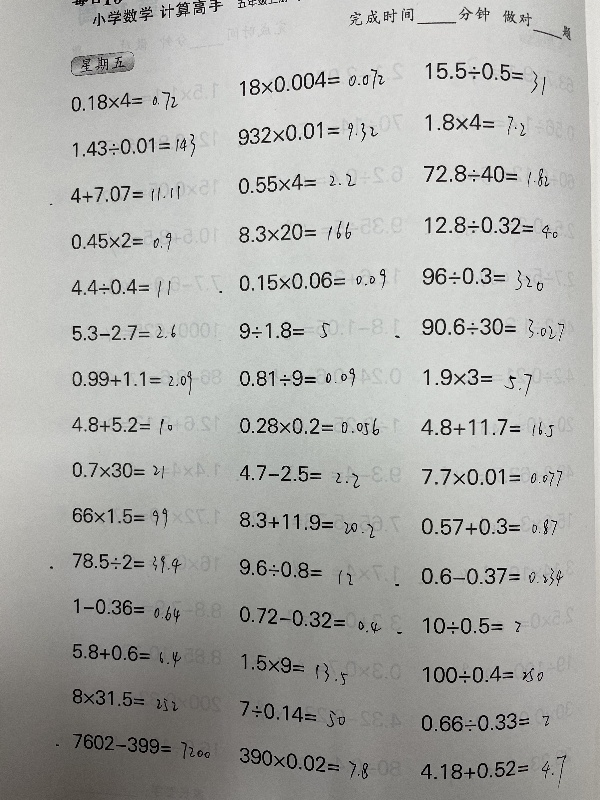equation: (232, 498, 379, 544), (237, 597, 386, 639), (414, 555, 566, 595), (236, 741, 370, 786), (418, 750, 566, 790), (70, 729, 213, 767), (420, 56, 548, 98), (416, 704, 552, 743), (234, 551, 361, 589), (241, 648, 355, 690), (236, 693, 350, 735), (419, 659, 545, 693), (233, 117, 380, 146), (235, 67, 387, 95), (417, 312, 567, 340), (234, 265, 388, 292), (68, 366, 195, 398), (67, 128, 198, 159), (419, 210, 561, 238), (419, 159, 552, 188), (417, 262, 547, 291), (232, 412, 382, 437), (233, 313, 340, 348), (417, 463, 565, 488), (416, 413, 556, 439), (417, 513, 561, 538), (68, 548, 188, 578), (67, 596, 187, 626), (64, 640, 184, 670), (65, 687, 185, 717), (418, 364, 534, 395), (231, 460, 363, 487), (419, 608, 529, 639), (234, 217, 354, 244), (235, 364, 358, 390), (67, 503, 172, 533), (233, 168, 358, 193), (420, 108, 529, 136), (66, 87, 180, 113), (65, 180, 182, 204), (67, 411, 175, 436), (67, 228, 175, 253), (66, 274, 173, 299), (67, 319, 178, 343), (67, 457, 167, 481)
